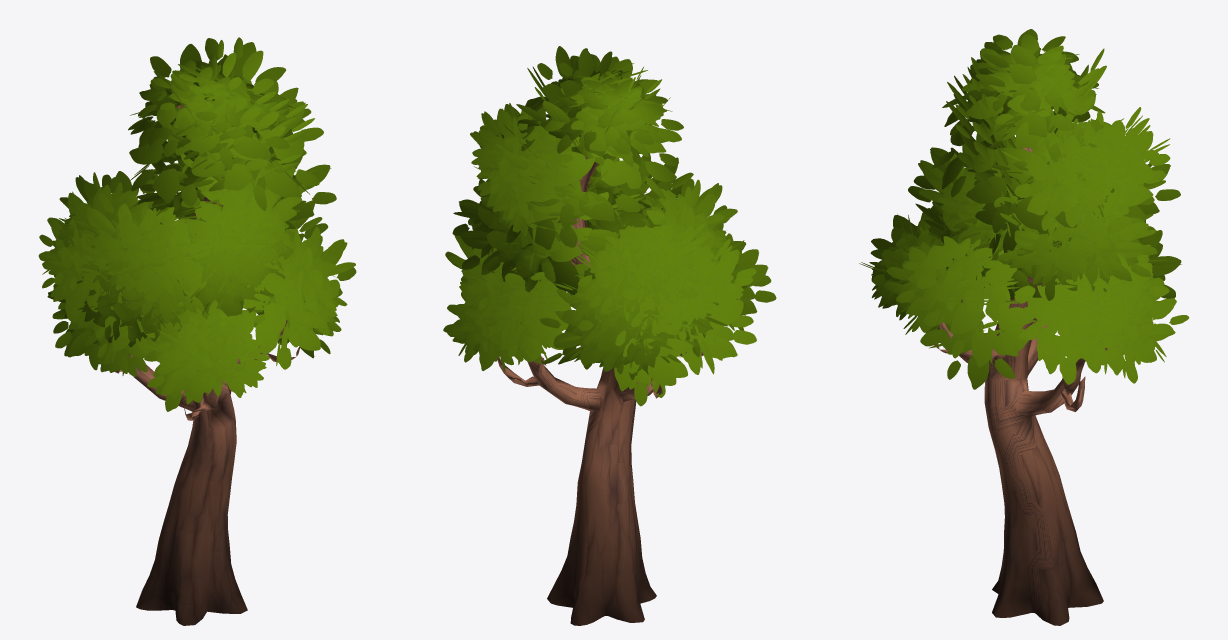
The model's file is CommonTree_2.glb.
The picture shows the model from 3 angles, left to right: view 1: azimuth 30°, elevation 25°; view 2: azimuth 150°, elevation 25°; view 3: azimuth 270°, elevation 25°; orthographic projection. The views are drawn at different scales.
Visible parts, largest first — view 1: CommonTree_2; view 2: CommonTree_2; view 3: CommonTree_2.
Part boxes in pixels (x1,y1,x2,y2): CommonTree_2: (38,37,356,625); CommonTree_2: (443,46,776,625); CommonTree_2: (859,29,1189,625).
Size of the model in its own units: 4.91 by 7.77 by 4.66.
Materials: 2 (2 with a texture image).
